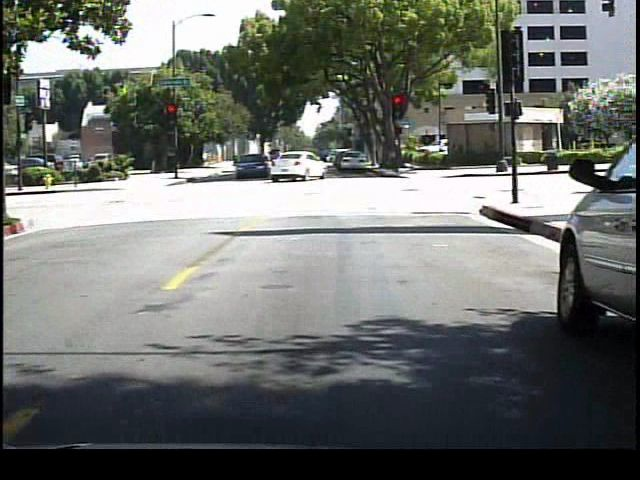person: (314, 144, 330, 180)
